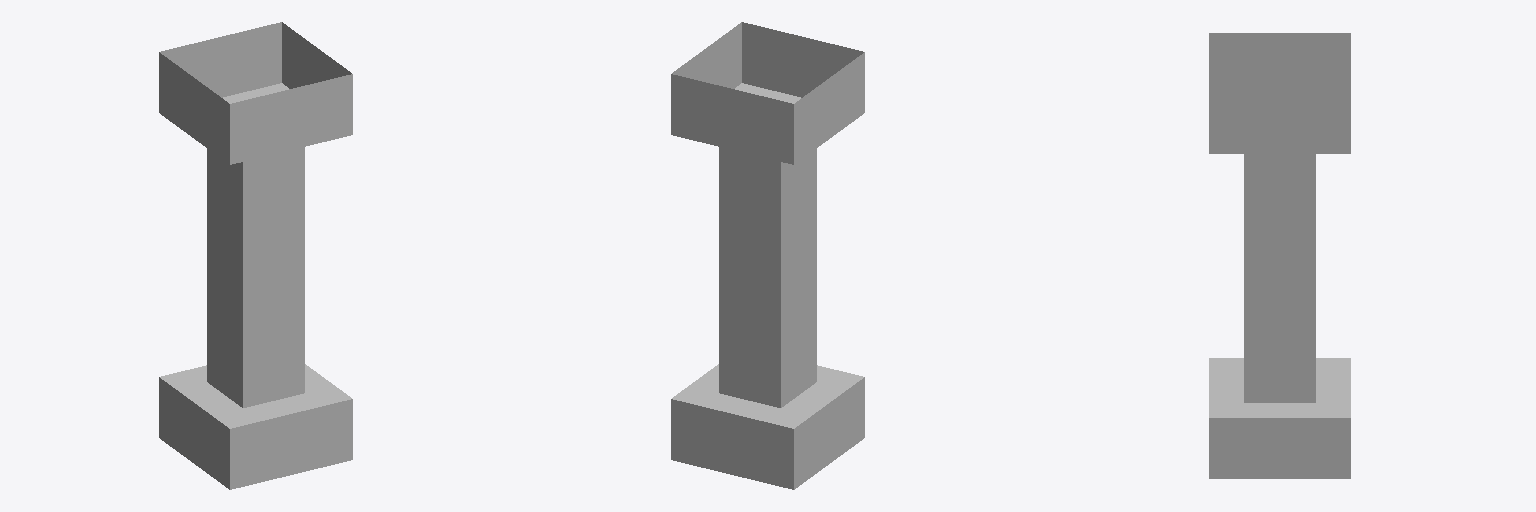
Rendered from column_h.obj.
3 renders of one model, left to right at view 1: azimuth 30°, elevation 25°; view 2: azimuth 150°, elevation 25°; view 3: azimuth 270°, elevation 25°, orthographic.
Parts seen in each view (by area): view 1: Cube; view 2: Cube; view 3: Cube.
Part boxes in pixels (left/top/right/bottom): Cube: left=159, top=22, right=352, bottom=489; Cube: left=671, top=22, right=864, bottom=489; Cube: left=1209, top=33, right=1350, bottom=478.
Bounding box in the file's own units: 0.3333 × 1 × 0.3333.